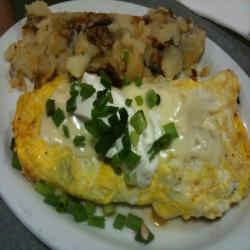omelette: (17, 74, 249, 223)
